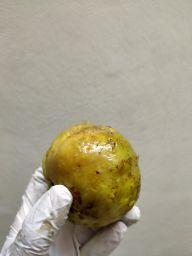guava: (43, 120, 147, 230)
